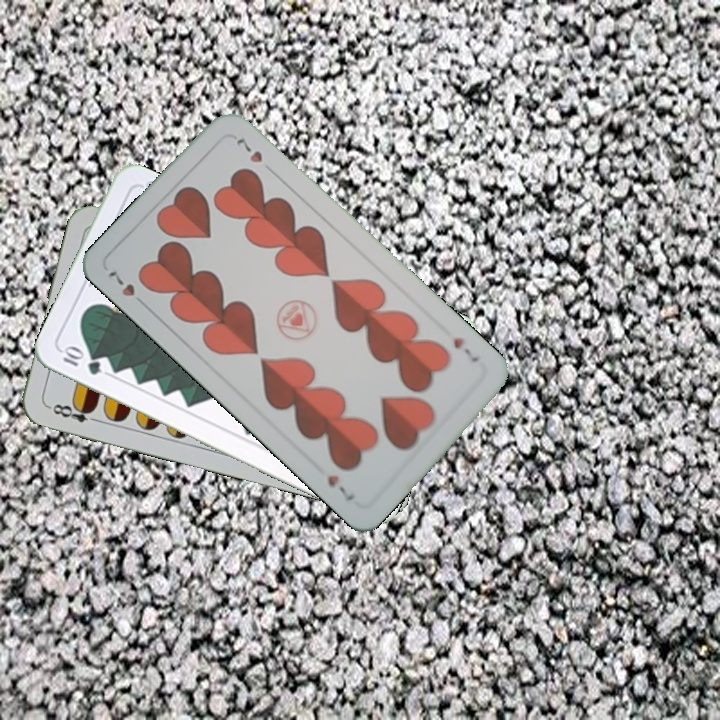E8: (44, 399, 102, 425)
G10: (59, 343, 105, 378)
H7: (103, 267, 150, 311), (449, 333, 482, 365)
